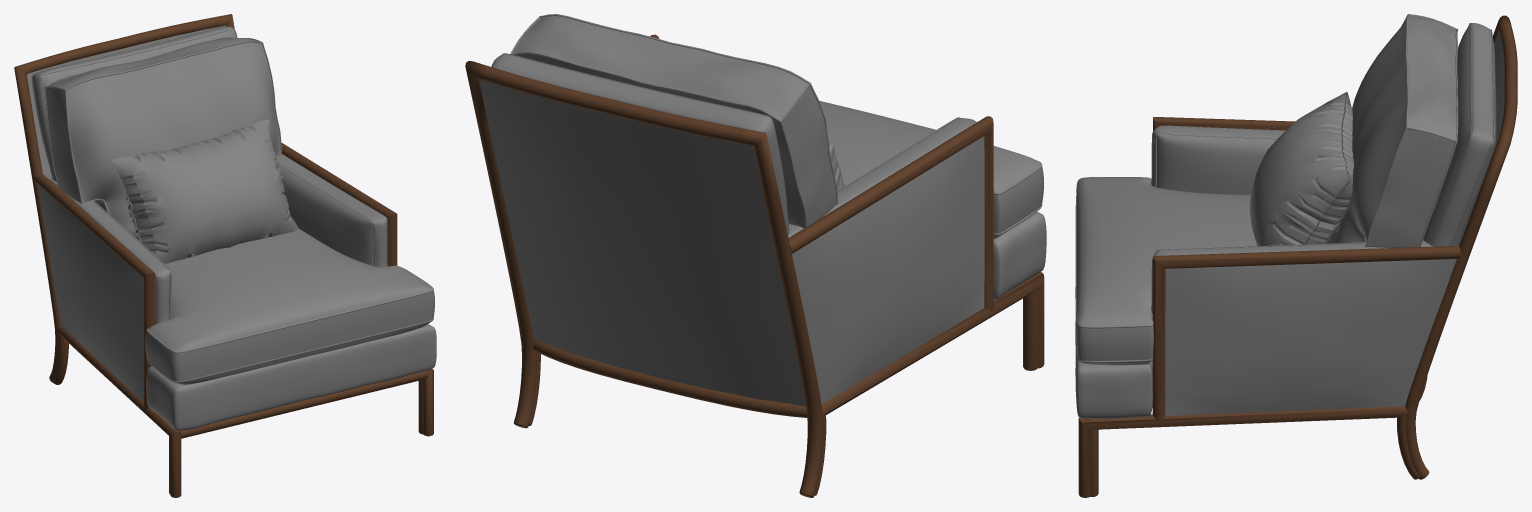
File: sillon2.FBX
3 views of the same model, side by side, from view 1: azimuth 30°, elevation 25°; view 2: azimuth 150°, elevation 25°; view 3: azimuth 270°, elevation 25° (orthographic). The views are drawn at different scales.
Parts seen in each view (by area): view 1: Plane005, Armchair, Roche bobois_attraction_Box003, Line010, BAKER 6347 PRIAM CHAIR005, Line013, Line017, BAKER 6347 PRIAM CHAIR006, Line012, BAKER 6347 PRIAM CHAIR004, Line015, Rectangle010 (+1 smaller); view 2: Rectangle009, Line010, Armchair, Line013, Plane005, Line012, BAKER 6347 PRIAM CHAIR006, Line017, BAKER 6347 PRIAM CHAIR004, Line014; view 3: Line011, Plane005, Armchair, Roche bobois_attraction_Box003, BAKER 6347 PRIAM CHAIR006, Line017, BAKER 6347 PRIAM CHAIR004, Line013, Line012, BAKER 6347 PRIAM CHAIR005, Rectangle010, Line014 (+1 smaller).
Part boxes in pixels (x1=…): Plane005: x1=145, y1=228, x2=436, y2=430; Armchair: x1=44, y1=36, x2=281, y2=238; Roche bobois_attraction_Box003: x1=111, y1=119, x2=298, y2=263; Line010: x1=37, y1=184, x2=143, y2=402; BAKER 6347 PRIAM CHAIR005: x1=277, y1=154, x2=387, y2=266; Line013: x1=14, y1=14, x2=234, y2=382; Line017: x1=34, y1=142, x2=397, y2=410; BAKER 6347 PRIAM CHAIR006: x1=31, y1=26, x2=237, y2=181; Line012: x1=56, y1=326, x2=433, y2=497; BAKER 6347 PRIAM CHAIR004: x1=50, y1=178, x2=171, y2=324; Line015: x1=180, y1=370, x2=427, y2=438; Rectangle010: x1=27, y1=25, x2=225, y2=179; Rectangle009: x1=479, y1=79, x2=805, y2=406; Line010: x1=792, y1=136, x2=984, y2=404; Armchair: x1=510, y1=14, x2=838, y2=228; Line013: x1=465, y1=61, x2=822, y2=497; Plane005: x1=819, y1=101, x2=1046, y2=299; Line012: x1=532, y1=272, x2=1044, y2=417; BAKER 6347 PRIAM CHAIR006: x1=491, y1=53, x2=789, y2=234; Line017: x1=650, y1=34, x2=993, y2=311; BAKER 6347 PRIAM CHAIR004: x1=788, y1=117, x2=976, y2=237; Line014: x1=1023, y1=289, x2=1037, y2=370; Line011: x1=1165, y1=259, x2=1456, y2=415; Plane005: x1=1075, y1=177, x2=1331, y2=418; Armchair: x1=1331, y1=14, x2=1458, y2=247; Roche bobois_attraction_Box003: x1=1250, y1=92, x2=1353, y2=246; BAKER 6347 PRIAM CHAIR006: x1=1423, y1=23, x2=1496, y2=246; Line017: x1=1152, y1=117, x2=1460, y2=422; BAKER 6347 PRIAM CHAIR004: x1=1151, y1=125, x2=1285, y2=194; Line013: x1=1405, y1=15, x2=1517, y2=479; Line012: x1=1078, y1=376, x2=1427, y2=497; BAKER 6347 PRIAM CHAIR005: x1=1151, y1=240, x2=1433, y2=361; Rectangle010: x1=1494, y1=30, x2=1504, y2=148; Line014: x1=1090, y1=429, x2=1098, y2=496.
Size of the model in its own units: 811 by 897 by 1004.
